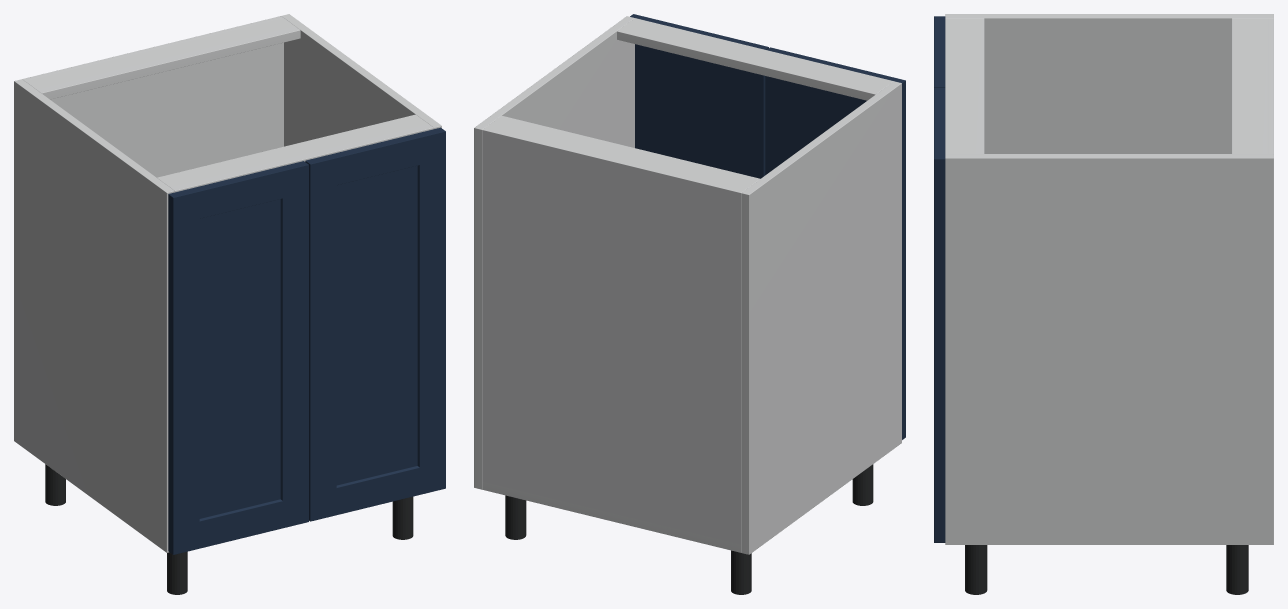
File: oppein-pb-bss-b24fh.glb
3 renders of one model, left to right at view 1: azimuth 30°, elevation 25°; view 2: azimuth 150°, elevation 25°; view 3: azimuth 270°, elevation 25°, orthographic. The views are drawn at different scales.
Parts seen in each view (by area): view 1: Cabinet side, Door, Door.001, Cabinet back, Cabinet side.001, Top support rail, Top support rail.001, Adjustable foot.003, Adjustable foot.001, Adjustable foot; view 2: Cabinet back, Cabinet side, Door.001, Cabinet side.001, Door, Top support rail.001, Top support rail, Cabinet bottom, Adjustable foot.002, Adjustable foot, Adjustable foot.001; view 3: Cabinet side.001, Cabinet side, Door.001, Top support rail.001, Top support rail, Adjustable foot.002, Adjustable foot.003, Cabinet back, Door.
Part boxes in pixels (x1=…): Cabinet side: x1=14, y1=79, x2=174, y2=552; Door: x1=168, y1=161, x2=308, y2=554; Door.001: x1=305, y1=127, x2=445, y2=521; Cabinet back: x1=22, y1=16, x2=283, y2=177; Cabinet side.001: x1=281, y1=14, x2=441, y2=146; Top support rail: x1=24, y1=18, x2=300, y2=99; Top support rail.001: x1=157, y1=114, x2=433, y2=192; Adjustable foot.003: x1=392, y1=496, x2=413, y2=539; Adjustable foot.001: x1=167, y1=551, x2=187, y2=594; Adjustable foot: x1=45, y1=464, x2=65, y2=505; Cabinet back: x1=482, y1=127, x2=743, y2=552; Cabinet side: x1=741, y1=81, x2=901, y2=554; Door.001: x1=630, y1=14, x2=768, y2=178; Cabinet side.001: x1=474, y1=16, x2=634, y2=489; Door: x1=765, y1=47, x2=905, y2=439; Top support rail.001: x1=617, y1=18, x2=893, y2=100; Top support rail: x1=486, y1=115, x2=759, y2=191; Cabinet bottom: x1=482, y1=481, x2=740, y2=552; Adjustable foot.002: x1=505, y1=495, x2=526, y2=539; Adjustable foot: x1=731, y1=550, x2=751, y2=594; Adjustable foot.001: x1=852, y1=464, x2=873, y2=505; Cabinet side.001: x1=945, y1=154, x2=1273, y2=544; Cabinet side: x1=945, y1=14, x2=1273, y2=153; Door.001: x1=934, y1=88, x2=945, y2=542; Top support rail.001: x1=945, y1=18, x2=984, y2=153; Top support rail: x1=1232, y1=18, x2=1267, y2=153; Adjustable foot.002: x1=1226, y1=545, x2=1248, y2=594; Adjustable foot.003: x1=965, y1=545, x2=987, y2=594; Cabinet back: x1=1267, y1=18, x2=1273, y2=153; Door: x1=934, y1=16, x2=945, y2=87.
Size of the model in its own units: 0.6096 by 0.8763 by 0.6064.
